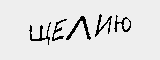Е: (50, 16, 65, 42)
И: (95, 15, 112, 35)
Л: (67, 16, 92, 41)
Щ: (27, 21, 51, 47)
Ю: (111, 14, 130, 34)
